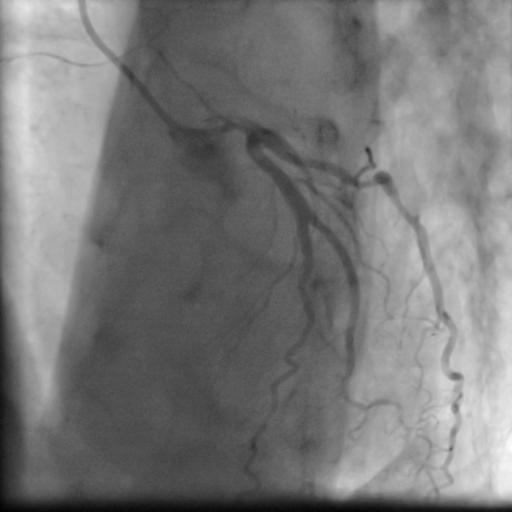Stenosis: (351, 163, 383, 195)
